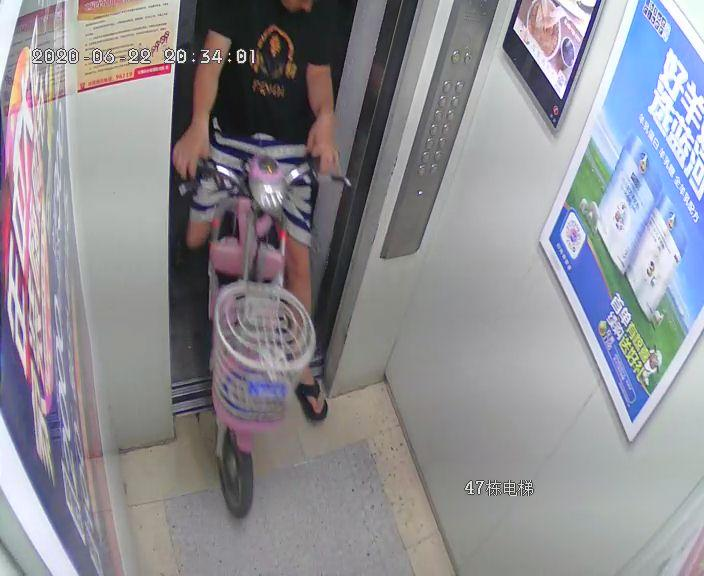Electric-bicycle: (170, 128, 350, 519)
